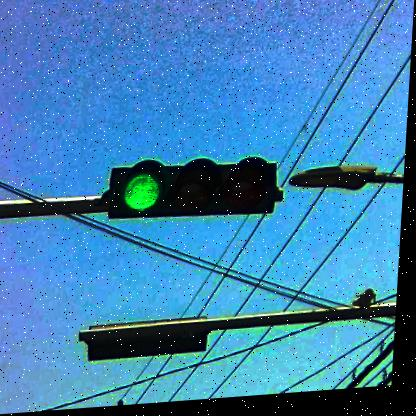Traffic Light -Green-: (109, 157, 284, 230)
